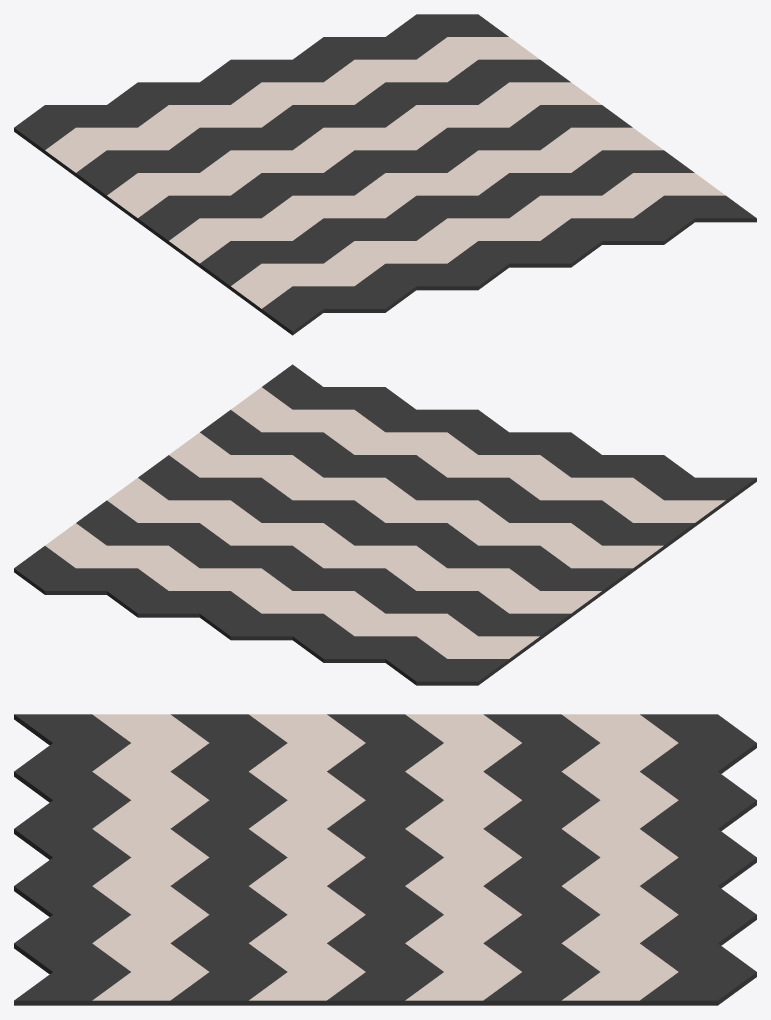
Rendered from Carpet_17.fbx.
The picture shows the model from 3 angles, top to bottom: view 1: azimuth 30°, elevation 25°; view 2: azimuth 150°, elevation 25°; view 3: azimuth 270°, elevation 25°; orthographic projection. The views are drawn at different scales.
Visible parts, largest first — view 1: Carpet_17; view 2: Carpet_17; view 3: Carpet_17.
Boxes of the visible parts, x1,y1,x2,y2 form: Carpet_17: [14, 14, 756, 335]; Carpet_17: [14, 364, 756, 685]; Carpet_17: [14, 714, 756, 1005].
Size of the model in its own units: 220 by 241 by 1.79.
